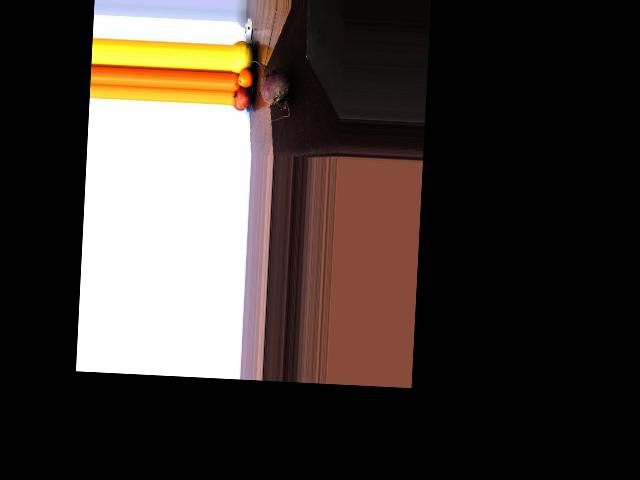beet: (245, 59, 292, 121)
